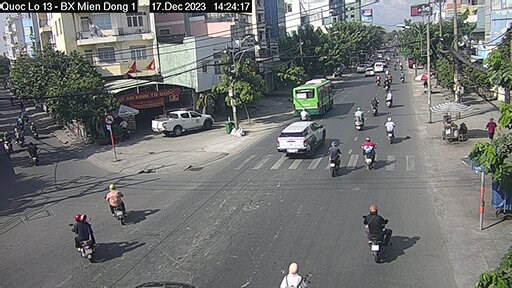bus: (292, 77, 333, 115)
car: (276, 119, 326, 157), (151, 109, 216, 138), (354, 60, 366, 72), (375, 60, 385, 73), (367, 66, 376, 77)
motorbike: (64, 212, 102, 257), (366, 209, 394, 256), (105, 186, 127, 220), (329, 141, 350, 175), (361, 136, 380, 170), (384, 120, 400, 144), (352, 104, 366, 127), (370, 95, 382, 117)
